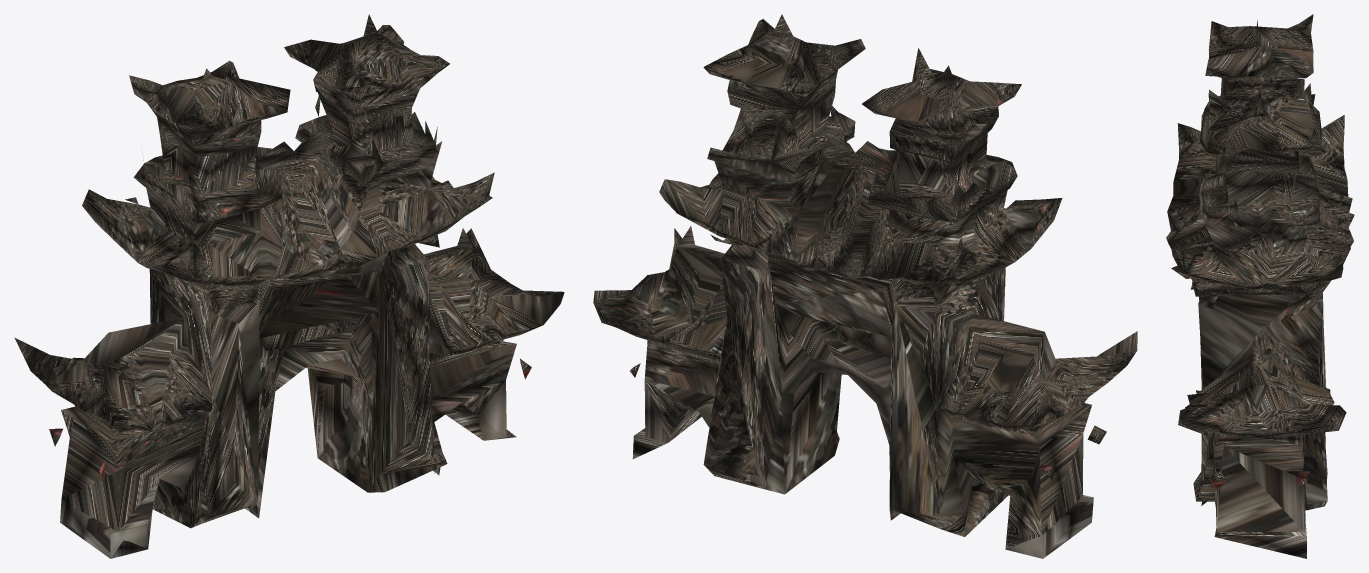
Rendered from Dark_oriental_gateway.glb.
3 renders of one model, left to right at view 1: azimuth 30°, elevation 25°; view 2: azimuth 150°, elevation 25°; view 3: azimuth 270°, elevation 25°, orthographic. The views are drawn at different scales.
Visible parts, largest first — view 1: Dark_oriental_gateway; view 2: Dark_oriental_gateway; view 3: Dark_oriental_gateway.
Boxes of the visible parts, x1,y1,x2,y2 form: Dark_oriental_gateway: [14, 14, 564, 558]; Dark_oriental_gateway: [593, 14, 1137, 558]; Dark_oriental_gateway: [1166, 14, 1354, 558].
Size of the model in its own units: 1.99 by 1.88 by 0.7623.
1 material, 1 textured.
